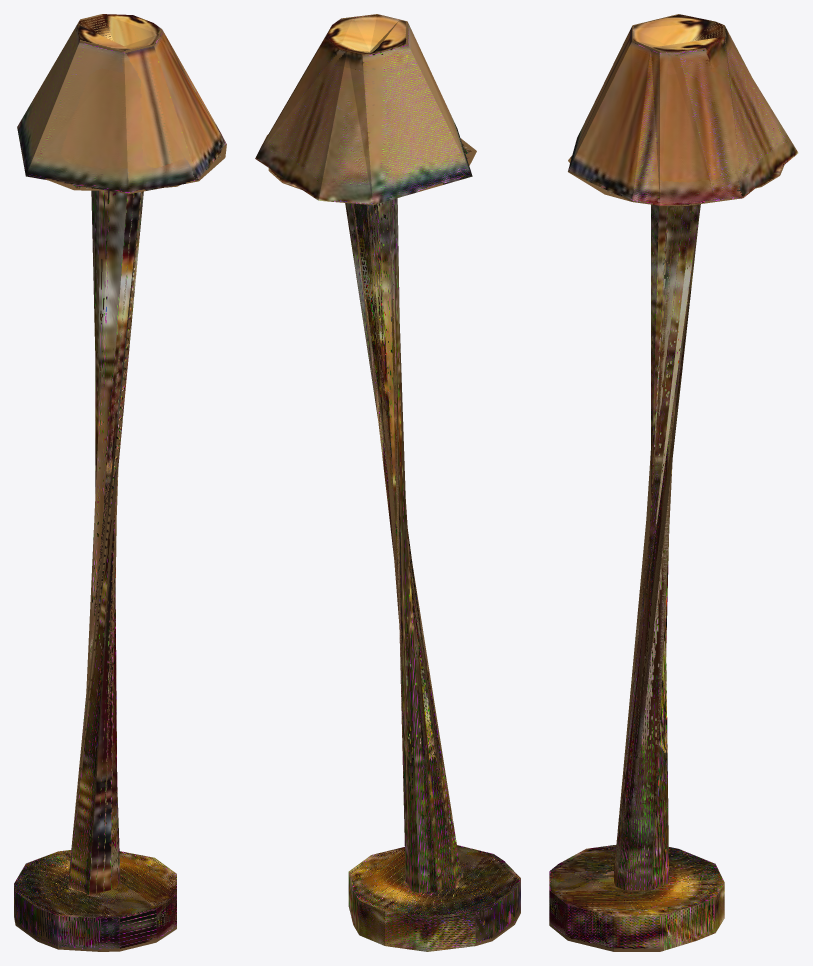
File: lamp_11_21__14_48_31_textured.obj
3 views of the same model, side by side, from view 1: azimuth 30°, elevation 25°; view 2: azimuth 150°, elevation 25°; view 3: azimuth 270°, elevation 25° (orthographic). The views are drawn at different scales.
Size of the model in its own units: 0.2896 by 1.16 by 0.2896.
Materials: 1 (1 with a texture image).
